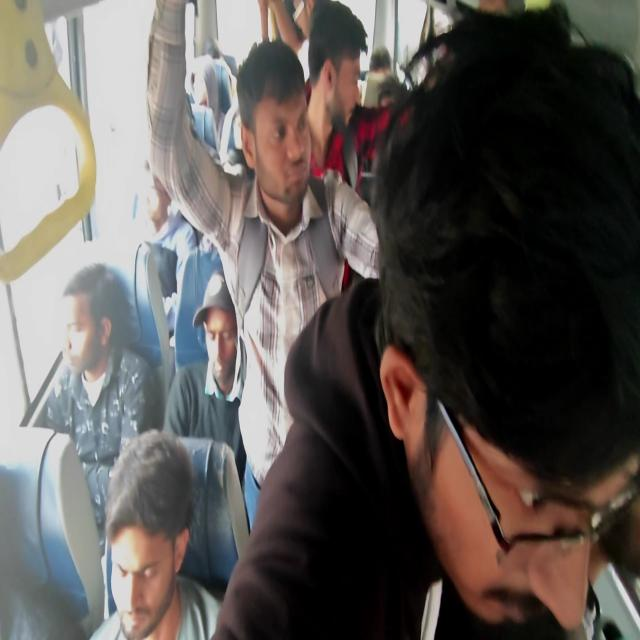person: (389, 116, 640, 640), (49, 240, 154, 440), (242, 85, 352, 271), (98, 479, 209, 640), (0, 407, 58, 634), (310, 17, 366, 135), (206, 282, 245, 366), (163, 140, 196, 207), (232, 122, 268, 175), (190, 37, 215, 107), (385, 74, 420, 122), (196, 57, 220, 122), (371, 44, 399, 82)
